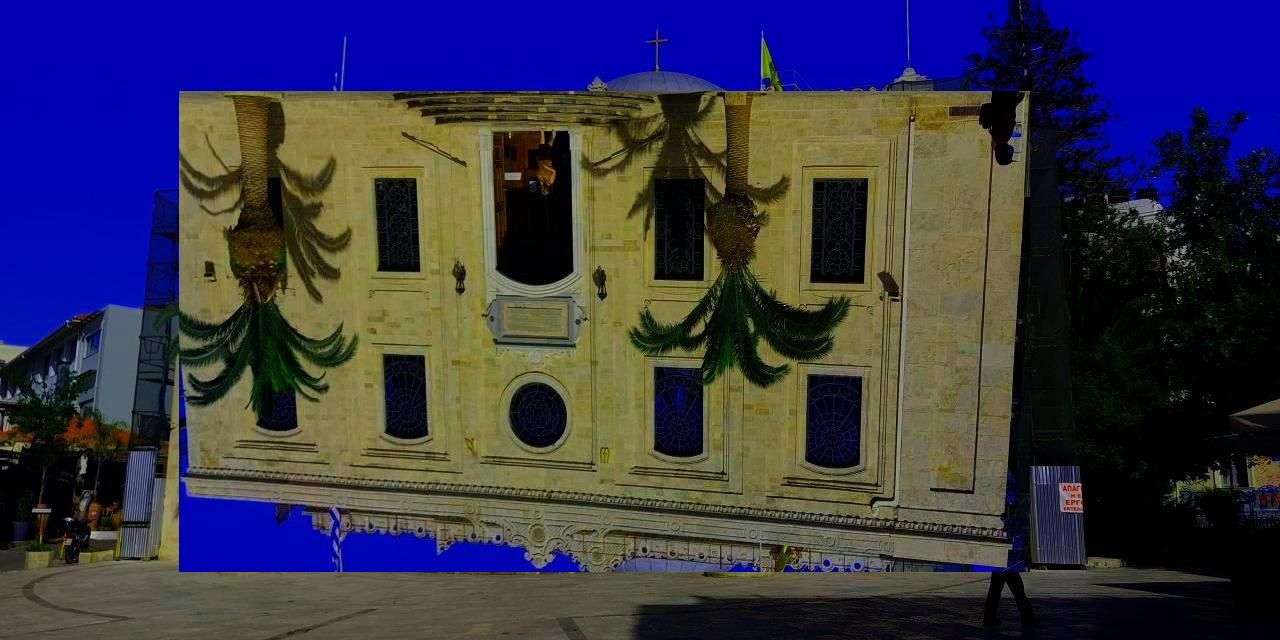Agios Titos: (180, 92, 1031, 573)
